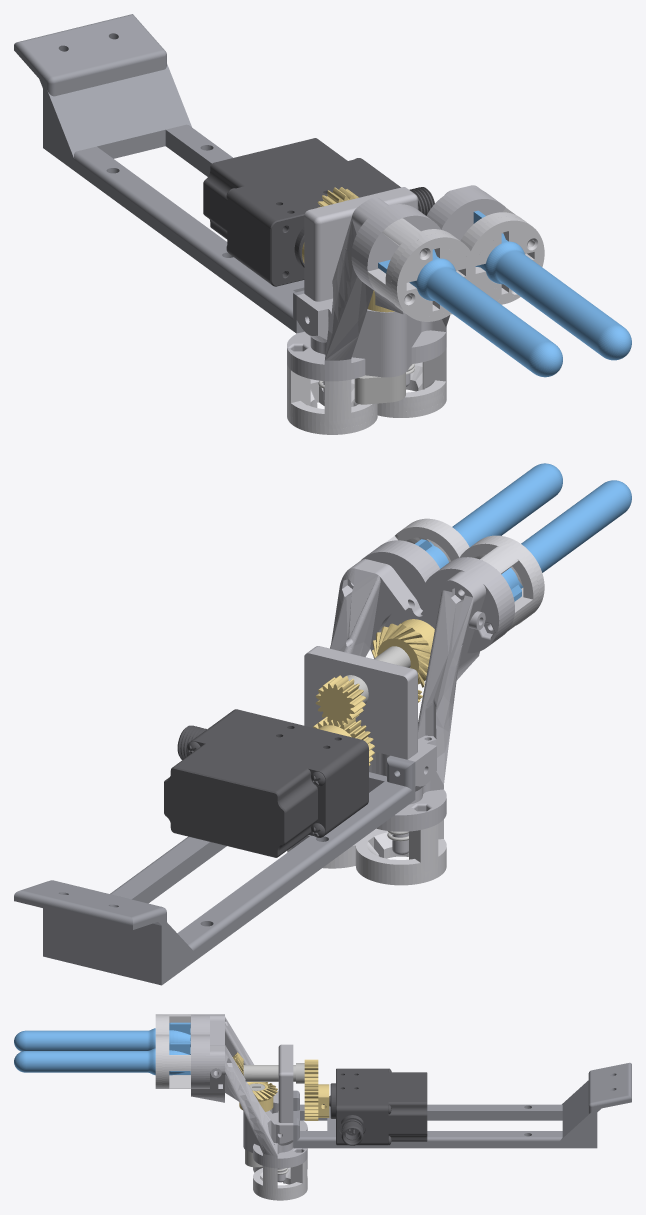
The picture shows the model from 3 angles, top to bottom: view 1: azimuth 30°, elevation 25°; view 2: azimuth 150°, elevation 25°; view 3: azimuth 270°, elevation 25°; orthographic projection. The views are drawn at different scales.
Visible parts, largest first — view 1: v8__Torpservoholder_and_Support_1__16, v8__Middle_Body_with_Straightener__12, v8__SER_20XX_Servo__6, v8__Top_Cover__0, v8__Bottom_Cover__8, v8__Torpedo_B_R, v8__Torpedo_B_L, v8__Pushing_Arm_with_Shaft__15; view 2: v8__Middle_Body_with_Straightener__12, v8__Torpservoholder_and_Support_1__16, v8__SER_20XX_Servo__6, v8__Top_Cover__0, v8__Bottom_Cover__8, v8__Torpedo_B_L, v8__Torpedo_B_R, v8__Right_Helix_Modified__13, v8__Shaftgear2_Gear_Blank__18, v8__Servogear_Gear_Blank__9, v8__New_Torpedo_Shaft__17; view 3: v8__Torpservoholder_and_Support_1__16, v8__Middle_Body_with_Straightener__12, v8__SER_20XX_Servo__6, v8__Torpedo_B_R, v8__Torpedo_B_L, v8__Top_Cover__0, v8__Bottom_Cover__8, v8__Servogear_Gear_Blank__9, v8__New_Torpedo_Shaft__17, v8__Left_Helix_Modified__4, v8__Shaftgear2_Gear_Blank__18.
Part boxes in pixels (<box>): v8__Torpservoholder_and_Support_1__16: <box>14,14,304,333</box>; v8__Middle_Body_with_Straightener__12: <box>287,185,505,401</box>; v8__SER_20XX_Servo__6: <box>203,138,434,286</box>; v8__Top_Cover__0: <box>367,208,544,321</box>; v8__Bottom_Cover__8: <box>287,347,446,434</box>; v8__Torpedo_B_R: <box>473,210,631,360</box>; v8__Torpedo_B_L: <box>378,249,562,377</box>; v8__Pushing_Arm_with_Shaft__15: <box>354,372,405,404</box>; v8__Middle_Body_with_Straightener__12: <box>304,540,514,854</box>; v8__Torpservoholder_and_Support_1__16: <box>14,755,415,985</box>; v8__SER_20XX_Servo__6: <box>164,709,368,857</box>; v8__Top_Cover__0: <box>385,518,544,631</box>; v8__Bottom_Cover__8: <box>287,819,446,885</box>; v8__Torpedo_B_L: <box>501,480,631,601</box>; v8__Torpedo_B_R: <box>415,463,562,568</box>; v8__Right_Helix_Modified__13: <box>372,619,434,687</box>; v8__Shaftgear2_Gear_Blank__18: <box>315,675,365,725</box>; v8__Servogear_Gear_Blank__9: <box>313,716,374,765</box>; v8__New_Torpedo_Shaft__17: <box>343,646,410,703</box>; v8__Torpservoholder_and_Support_1__16: <box>293,1062,631,1148</box>; v8__Middle_Body_with_Straightener__12: <box>190,1014,307,1182</box>; v8__SER_20XX_Servo__6: <box>323,1068,427,1145</box>; v8__Torpedo_B_R: <box>14,1043,190,1075</box>; v8__Torpedo_B_L: <box>14,1022,190,1051</box>; v8__Top_Cover__0: <box>155,1014,190,1088</box>; v8__Bottom_Cover__8: <box>253,1158,307,1200</box>; v8__Servogear_Gear_Blank__9: <box>304,1084,329,1120</box>; v8__New_Torpedo_Shaft__17: <box>243,1063,304,1083</box>; v8__Left_Helix_Modified__4: <box>239,1082,277,1111</box>; v8__Shaftgear2_Gear_Blank__18: <box>304,1059,318,1086</box>.
Bounding box in the file's own units: 99 × 123 × 453.
